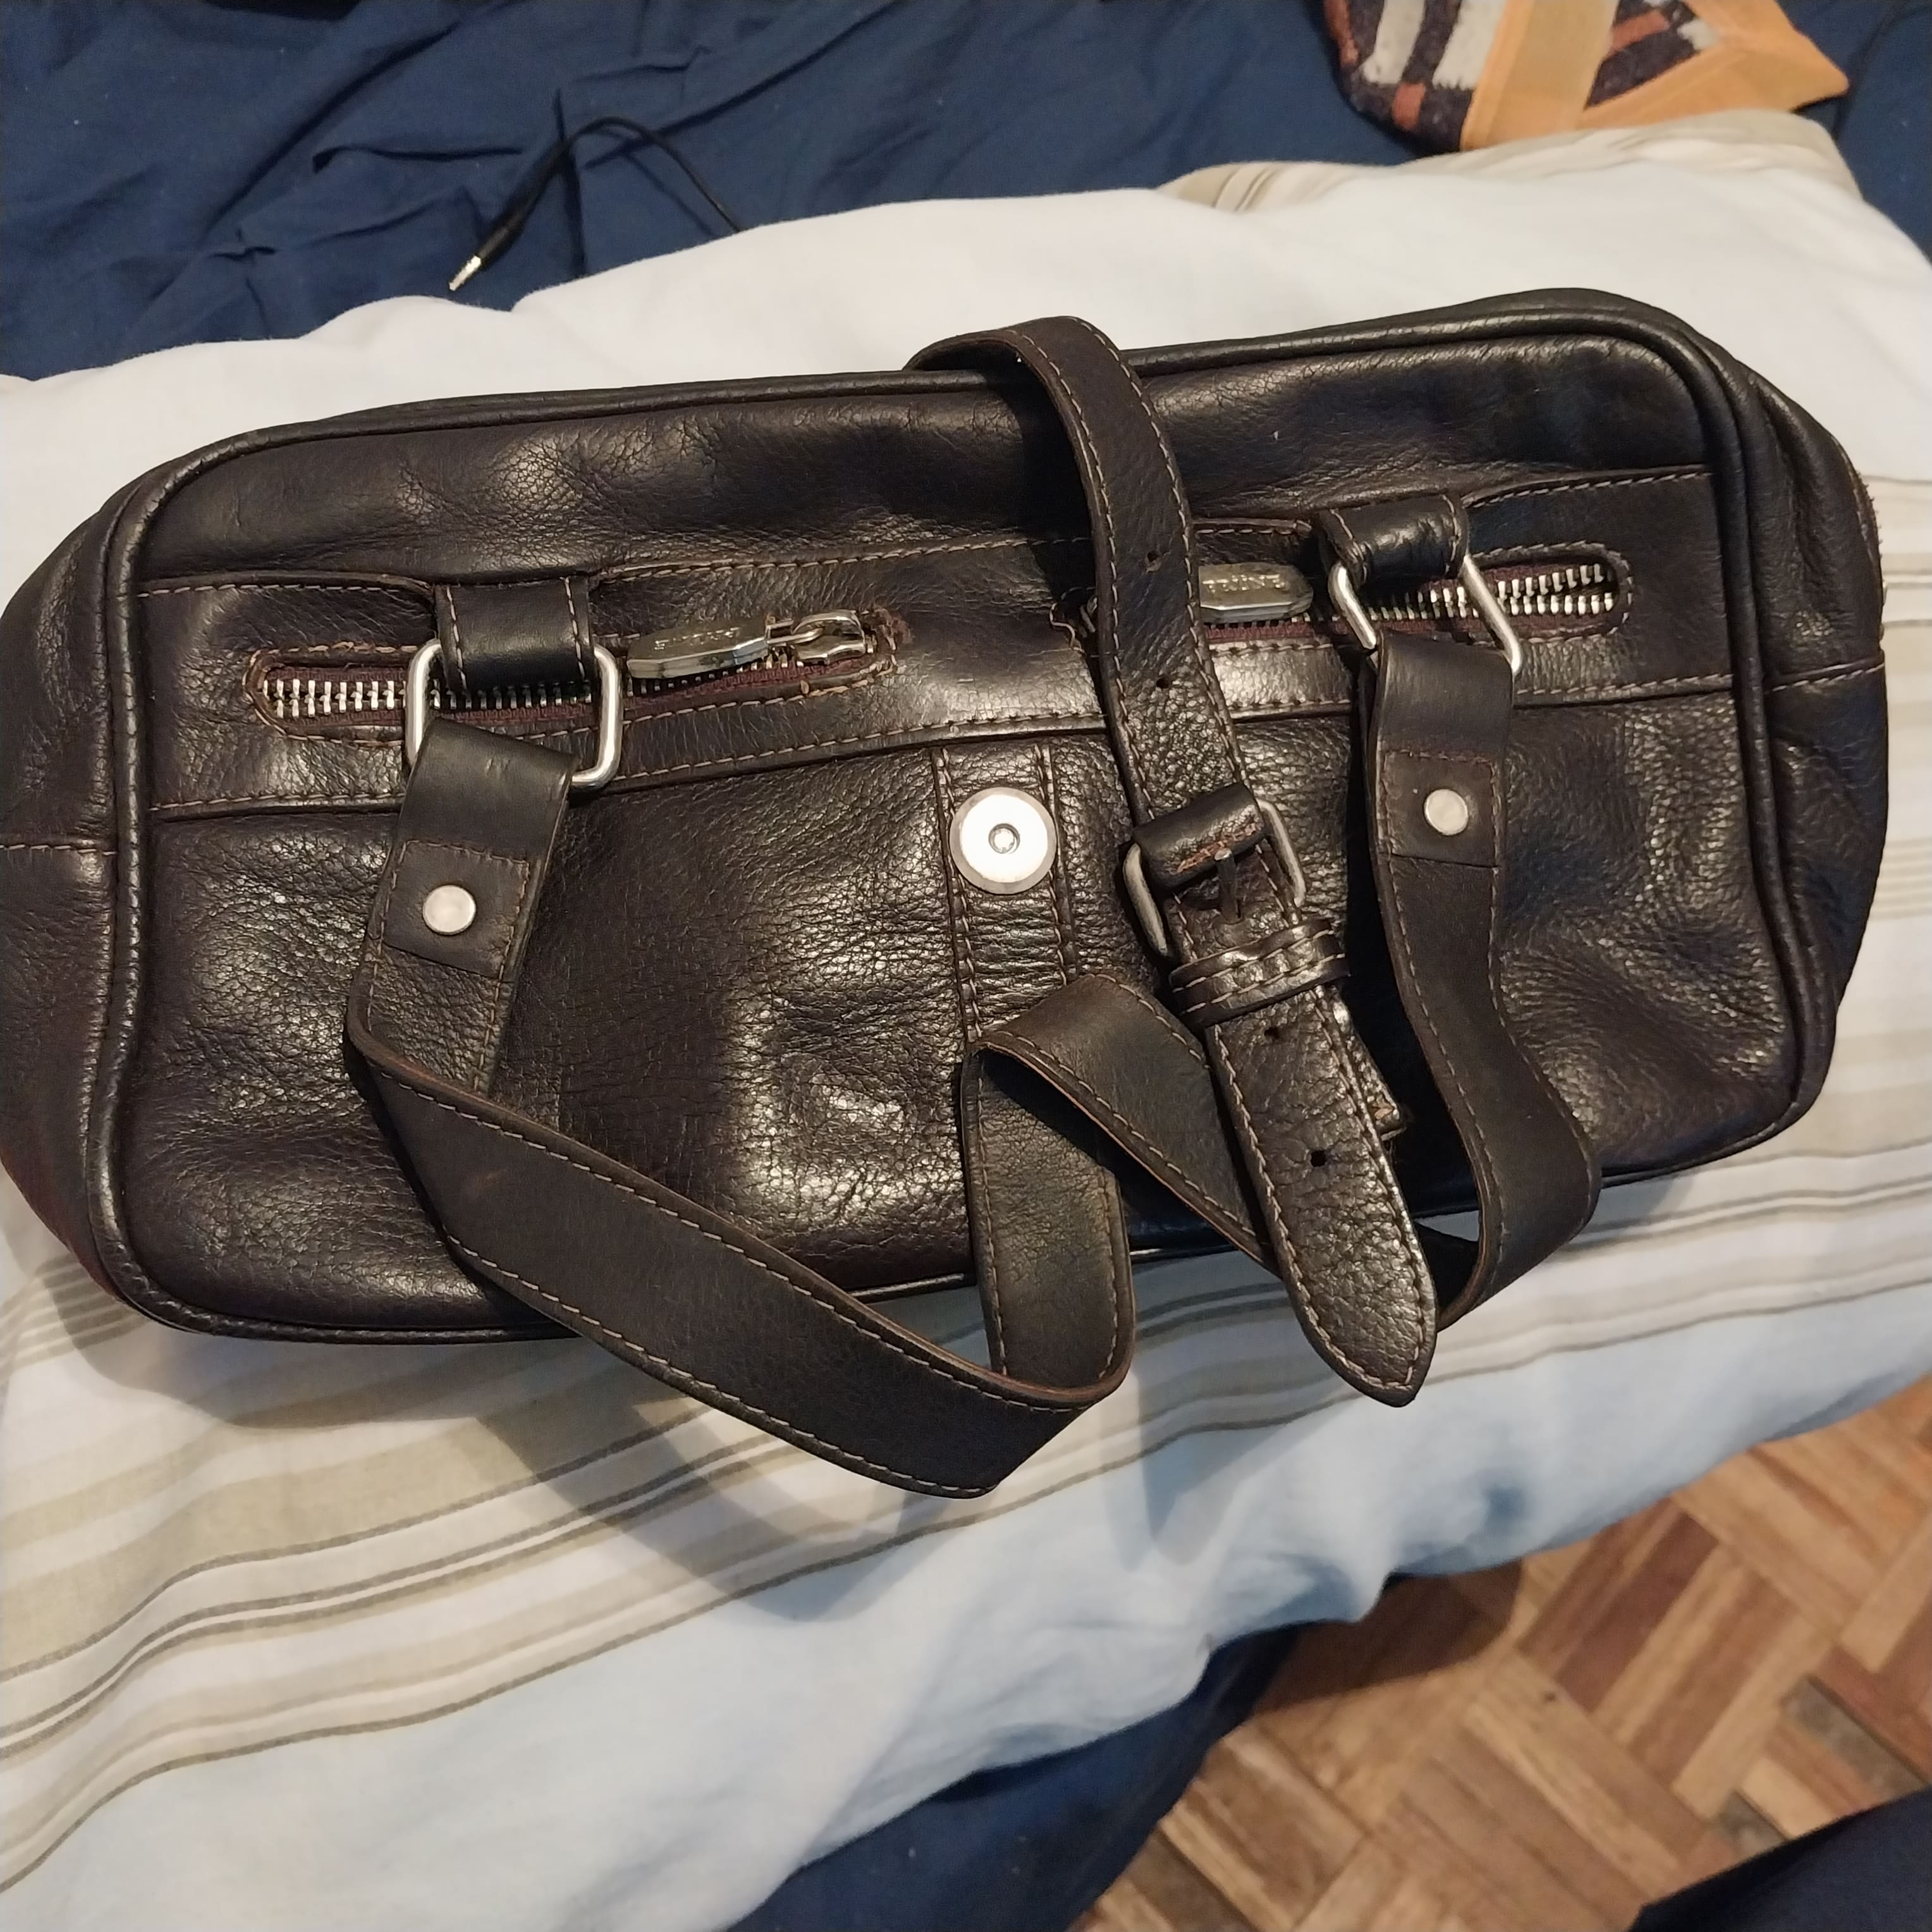cartera: (50, 350, 1757, 1488)
cuero: (596, 840, 885, 1060)
